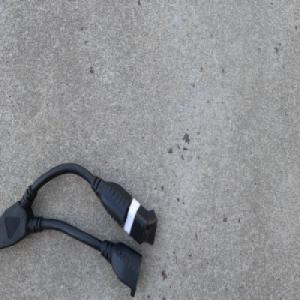Wire: (0, 160, 157, 298)
